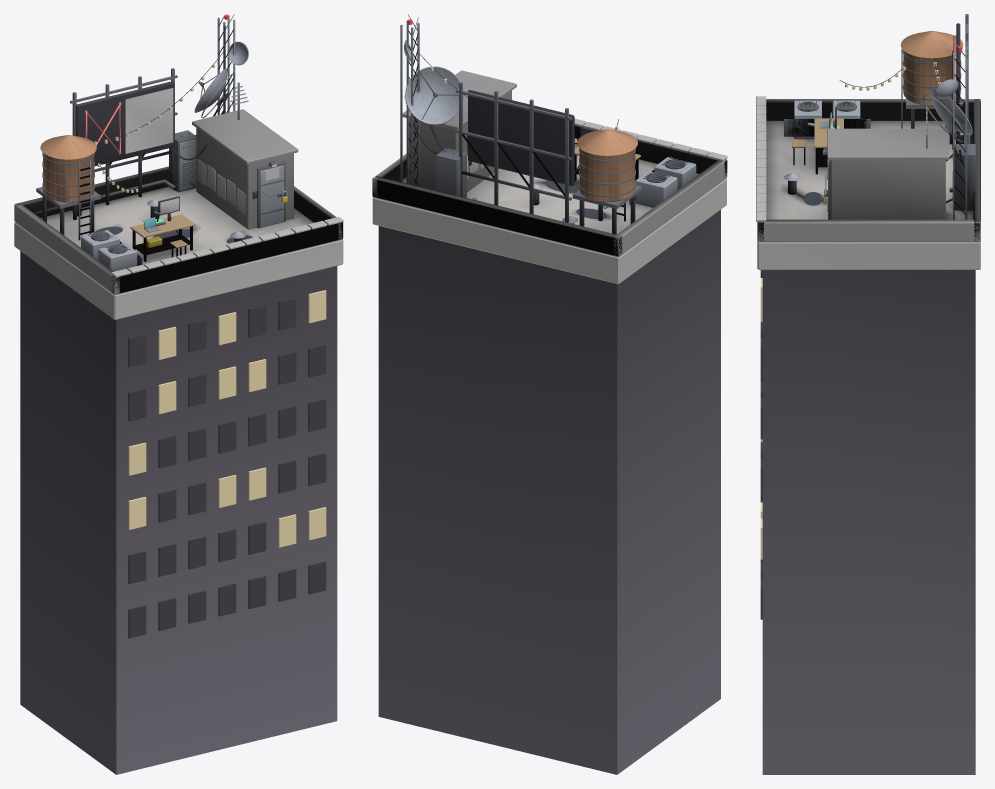
Rendered from rooftop.glb.
3 views of the same model, side by side, from view 1: azimuth 30°, elevation 25°; view 2: azimuth 150°, elevation 25°; view 3: azimuth 270°, elevation 25° (orthographic). The views are drawn at different scales.
Visible parts, largest first — view 1: building, roof_slab, roof_floor, parapet_0.0_-3.1, hut, sign_plate, hut_roof, sign_type, parapet_-4.1_0.0, tank, parapet_0.0_3.1, door (+49 smaller); view 2: building, roof_slab, sign_plate, parapet_0.0_3.1, roof_floor, parapet_-4.1_0.0, dish, hut, tank, hut_roof, tank_roof, server (+3 smaller); view 3: building, hut, roof_slab, roof_floor, parapet_4.1_0.0, hut_roof, parapet_-4.1_0.0, tank, server, tank_roof, parapet_0.0_3.1, dish (+5 smaller).
Boxes of the visible parts, left/top/right/bottom form: building: left=20, top=251, right=337, bottom=774; roof_slab: left=14, top=187, right=343, bottom=319; roof_floor: left=40, top=186, right=313, bottom=265; parapet_0.0_-3.1: left=111, top=222, right=342, bottom=293; hut: left=196, top=128, right=293, bottom=229; sign_plate: left=75, top=81, right=174, bottom=165; hut_roof: left=192, top=109, right=298, bottom=164; sign_type: left=125, top=88, right=173, bottom=153; parapet_-4.1_0.0: left=14, top=204, right=119, bottom=294; tank: left=43, top=153, right=94, bottom=202; parapet_0.0_3.1: left=15, top=166, right=169, bottom=217; door: left=260, top=165, right=283, bottom=227; building: left=378, top=209, right=720, bottom=774; roof_slab: left=372, top=144, right=726, bottom=284; sign_plate: left=468, top=90, right=574, bottom=186; parapet_0.0_3.1: left=372, top=176, right=622, bottom=256; roof_floor: left=402, top=144, right=698, bottom=234; parapet_-4.1_0.0: left=613, top=159, right=727, bottom=256; dish: left=405, top=66, right=463, bottom=124; hut: left=409, top=91, right=511, bottom=192; tank: left=579, top=148, right=635, bottom=201; hut_roof: left=402, top=70, right=516, bottom=129; tank_roof: left=577, top=129, right=637, bottom=155; server: left=436, top=148, right=466, bottom=197; building: left=762, top=270, right=975, bottom=774; hut: left=830, top=160, right=945, bottom=219; roof_slab: left=757, top=241, right=980, bottom=269; roof_floor: left=766, top=121, right=973, bottom=219; parapet_4.1_0.0: left=757, top=219, right=980, bottom=241; hut_roof: left=827, top=128, right=949, bottom=159; parapet_-4.1_0.0: left=766, top=99, right=980, bottom=120; tank: left=903, top=50, right=960, bottom=105; server: left=954, top=144, right=975, bottom=210; tank_roof: left=900, top=30, right=963, bottom=58; parapet_0.0_3.1: left=973, top=99, right=980, bottom=240; dish: left=931, top=88, right=972, bottom=135.
Bounding box in the file's own units: 8.4 × 22.71 × 6.44.
